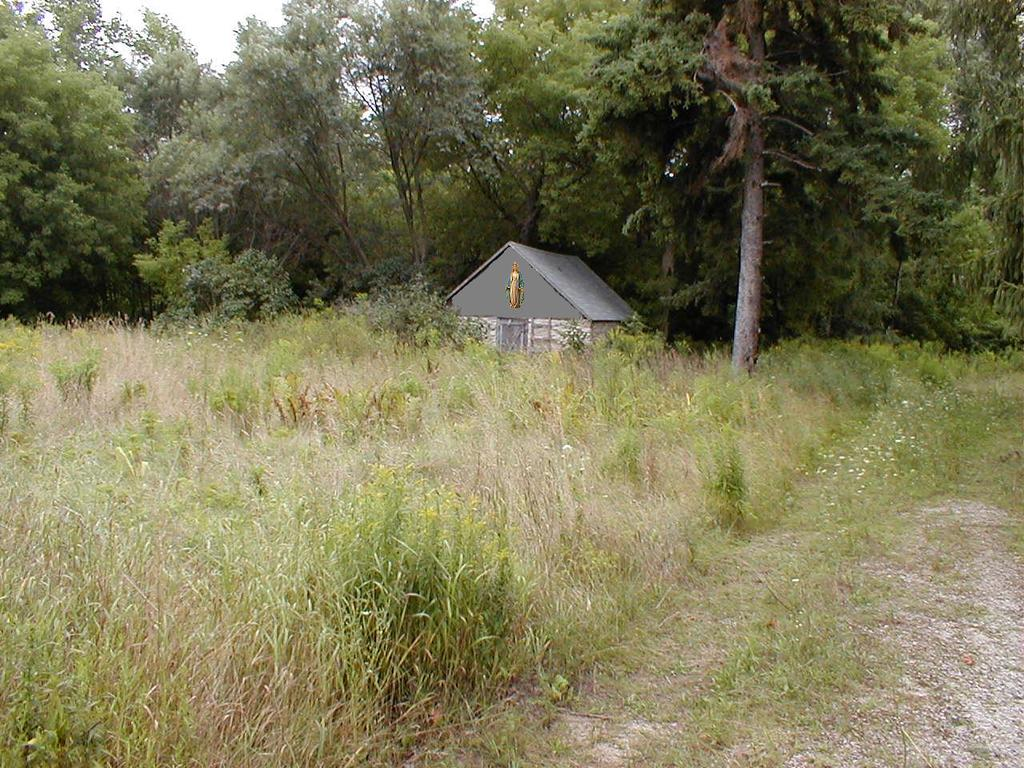Tree: (0, 0, 1023, 374), (14, 56, 155, 333)
